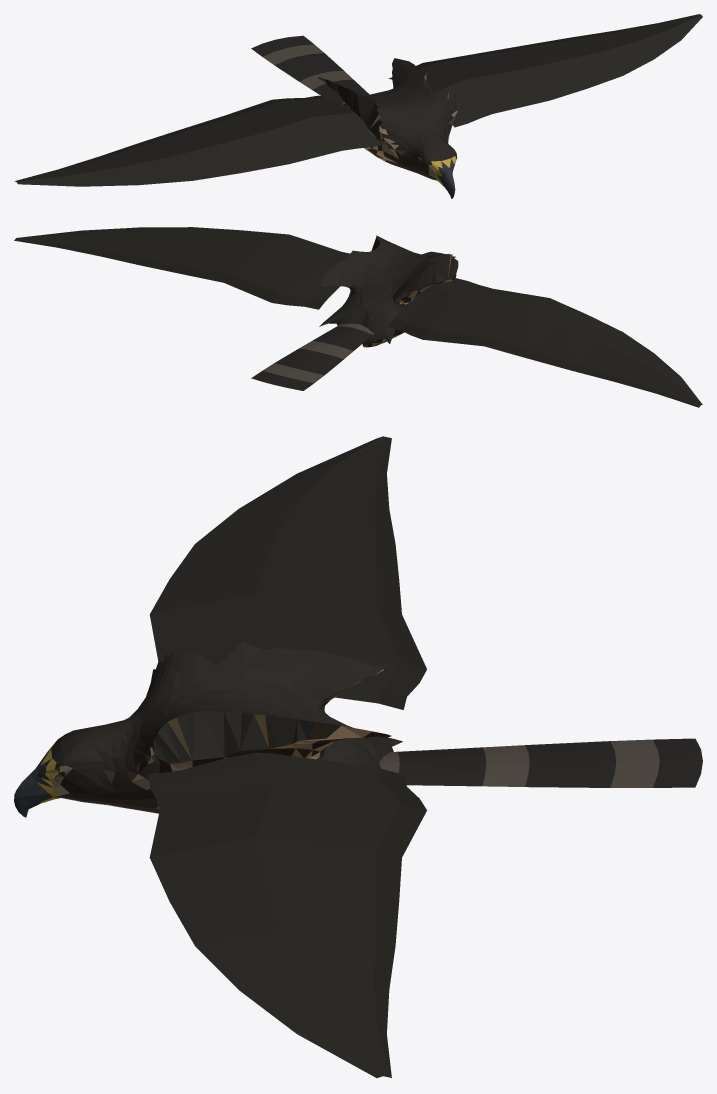
The model's file is merlin.glb.
The picture shows the model from 3 angles, top to bottom: view 1: azimuth 30°, elevation 25°; view 2: azimuth 150°, elevation 25°; view 3: azimuth 270°, elevation 25°; orthographic projection. The views are drawn at different scales.
Visible parts, largest first — view 1: lod0; view 2: lod0; view 3: lod0.
Boxes of the visible parts, x1,y1,x2,y2 form: lod0: (14, 14, 702, 198); lod0: (14, 227, 702, 407); lod0: (14, 436, 702, 1077).
Size of what is drawn, in the model's own units: 0.6 by 0.0613 by 0.273.
